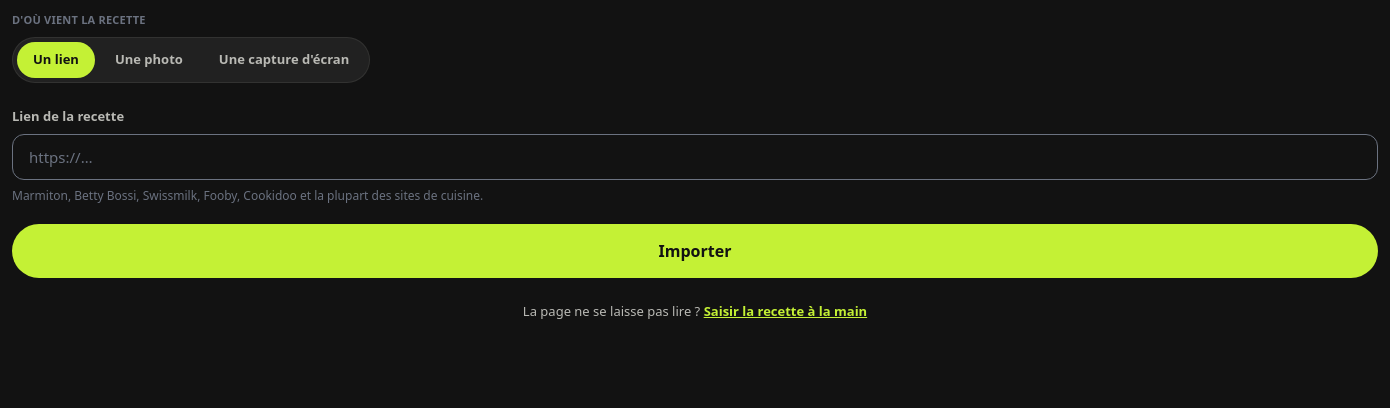
Scenario: ImportForm › names the gift when an assisted source is open and nothing is charged
What coordinates should you click on to do the following:
click the button with test id "source-PHOTO"
I would click on:
 (149, 60)
Its box is 99,42 -> 199,78.
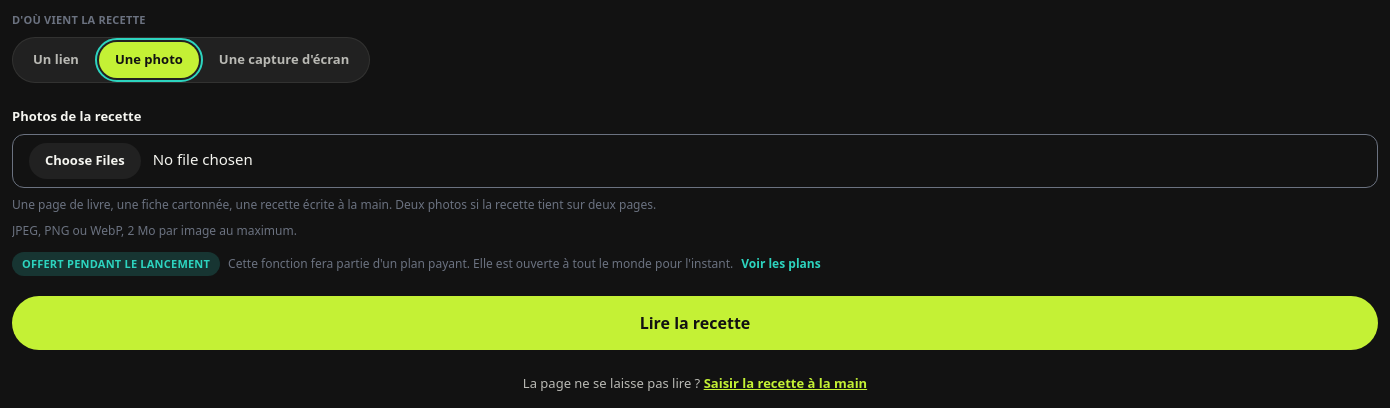
Result: the file field labelled "Photos de la recette" is shown at 12,134 -> 1378,188
Result: the element with test id "launch-note" shows "Offert pendant le lancement" at 22,256 -> 210,270
